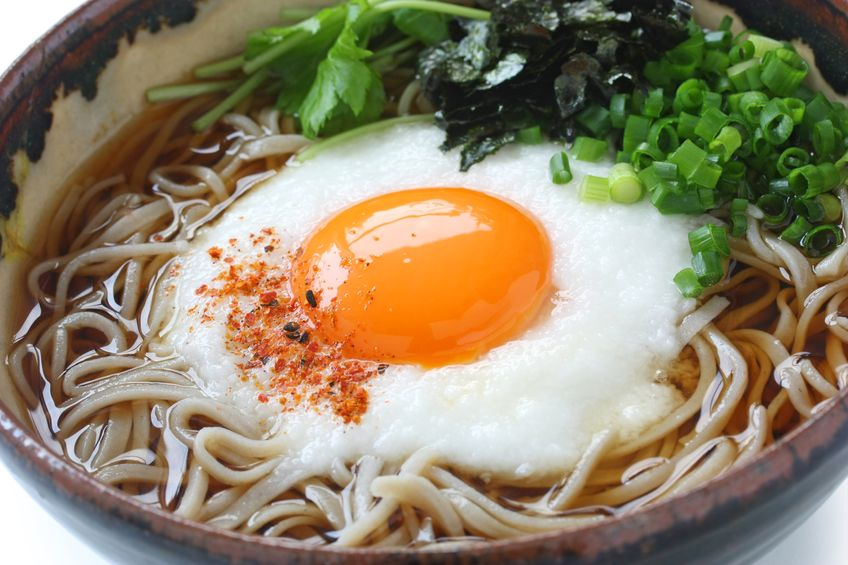Soba: (15, 132, 848, 530)
